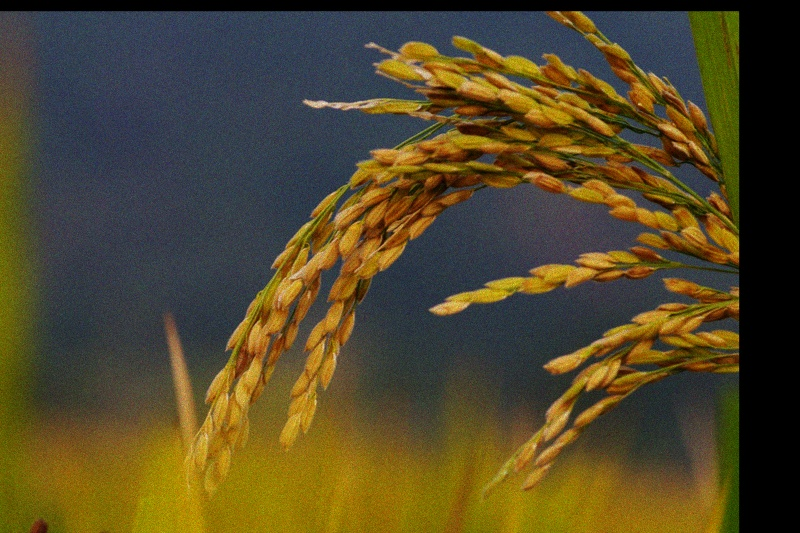rice: (183, 39, 735, 495)
